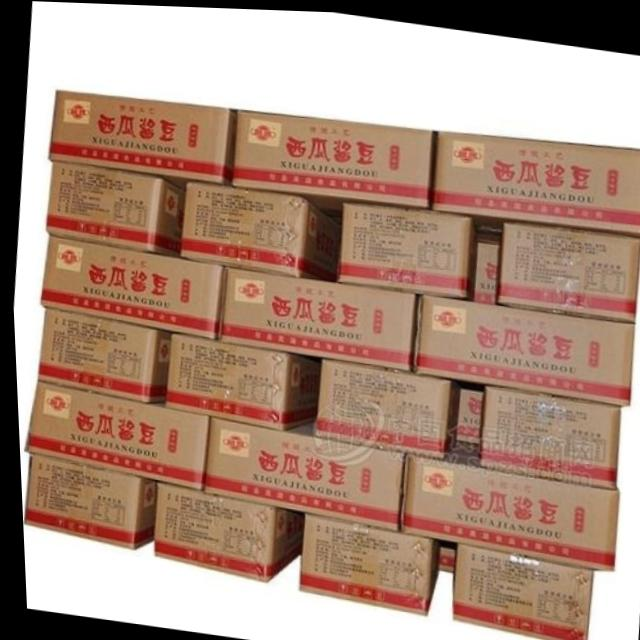box: (393, 438, 615, 566), (408, 289, 631, 401), (229, 108, 436, 220), (197, 415, 401, 528), (429, 126, 640, 235), (213, 264, 415, 369), (21, 382, 206, 489), (48, 89, 235, 189), (38, 236, 218, 338), (178, 178, 339, 278), (161, 331, 317, 427), (148, 481, 299, 580), (474, 381, 616, 485), (493, 218, 638, 317), (292, 512, 435, 612), (311, 356, 455, 455), (447, 539, 588, 640), (333, 200, 476, 297), (43, 161, 181, 255), (18, 453, 153, 549), (35, 307, 167, 403)
